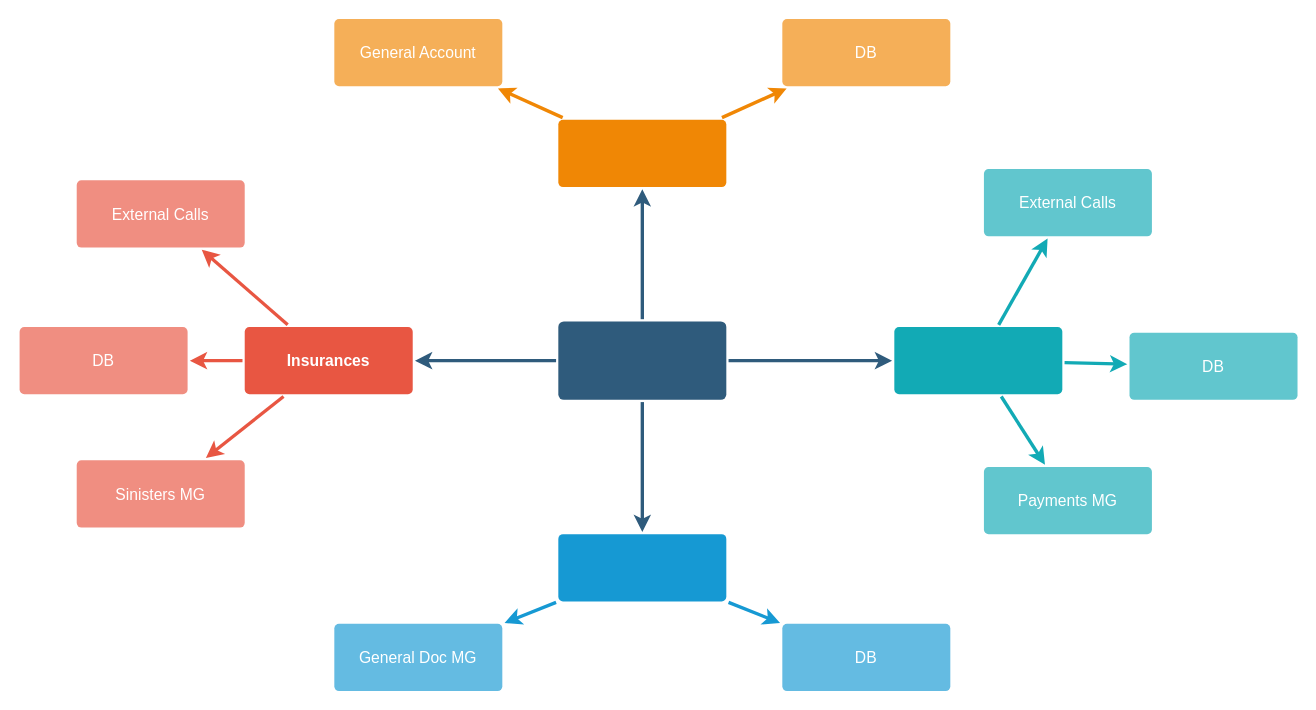
This 1316x710 diagram has some shape labels left out. The shapes that lost their labels are listed below. From the top down, each one's box as (x1, y1, x2, y2) in pixels, then its label:
(558, 119, 726, 186): Accounting
(558, 321, 726, 399): API Gateway
(894, 326, 1062, 394): Banks
(558, 534, 726, 601): Organization
